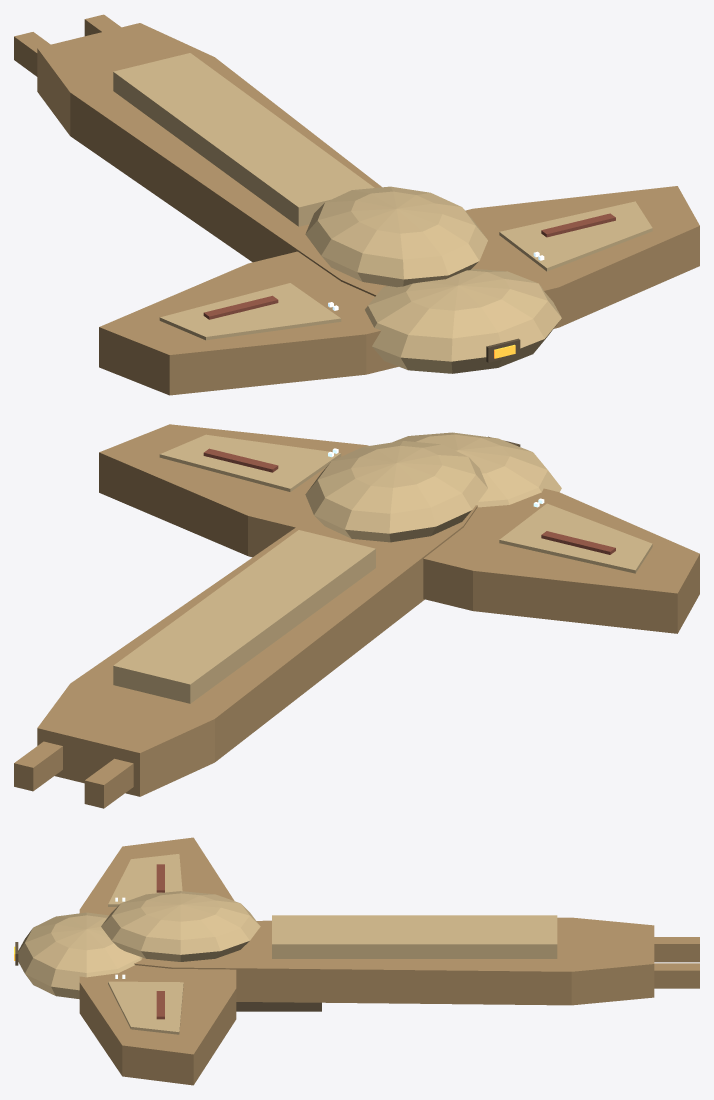
File: cardassian-cruiser_LOD2.glb
3 views of the same model, one above another, from view 1: azimuth 30°, elevation 25°; view 2: azimuth 150°, elevation 25°; view 3: azimuth 270°, elevation 25° (orthographic). The views are drawn at different scales.
Visible parts, largest first — view 1: Broad_Shoulders, Long_Spine, Dorsal_Spine, Forward_Command_Head, Layered_Bridge, Shoulder_Plates, Aft_Fork, Inset_Bands; view 2: Broad_Shoulders, Long_Spine, Dorsal_Spine, Layered_Bridge, Shoulder_Plates, Forward_Command_Head, Aft_Fork, Inset_Bands; view 3: Long_Spine, Broad_Shoulders, Dorsal_Spine, Layered_Bridge, Forward_Command_Head, Shoulder_Plates, Aft_Fork, Ventral_Keel, Inset_Bands.
Boxes of the visible parts, x1,y1,x2,y2 form: Broad_Shoulders: (99,186,699,395); Long_Spine: (37,23,476,296); Dorsal_Spine: (113,53,374,226); Forward_Command_Head: (365,268,561,373); Layered_Bridge: (305,186,487,287); Shoulder_Plates: (159,201,652,340); Aft_Fork: (14,14,120,76); Inset_Bands: (203,213,615,319); Broad_Shoulders: (99,424,699,633); Long_Spine: (37,505,477,796); Dorsal_Spine: (113,530,375,703); Layered_Bridge: (305,441,487,542); Shoulder_Plates: (159,434,652,573); Forward_Command_Head: (393,432,561,507); Aft_Fork: (14,741,133,808); Inset_Bands: (203,448,615,554); Long_Spine: (134,917,654,1005); Broad_Shoulders: (79,837,236,1085); Dorsal_Spine: (272,915,557,958); Layered_Bridge: (101,891,260,961); Forward_Command_Head: (18,912,142,999); Shoulder_Plates: (108,854,183,1034); Aft_Fork: (654,937,699,988); Ventral_Keel: (236,1002,321,1011); Inset_Bands: (156,864,164,1019).
Bounding box in the file's own units: 360 × 72.5 × 481.
